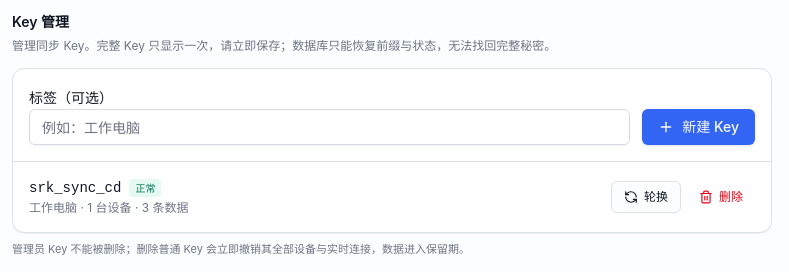
Scenario: AdminKeysView › confirms deletion and shows the pending-delete state with purge date
This screenshot has width=789, height=272.
Click the button "删除" at x=721, y=197, box [687,181,755,213]
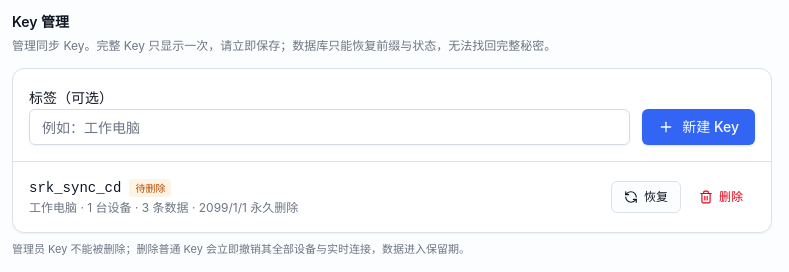
Expected: the text "待删除" is shown, [129,179,171,197]
Expected: the text "工作电脑 · 1 台设备 · 3 条数据 · 2099/1/1 永久删除" is shown, [29,200,298,215]
